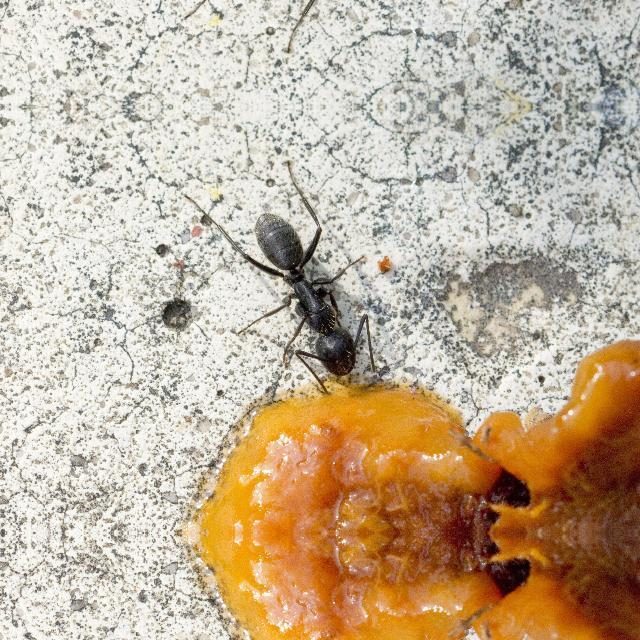Camponotus: (220, 180, 386, 392)
